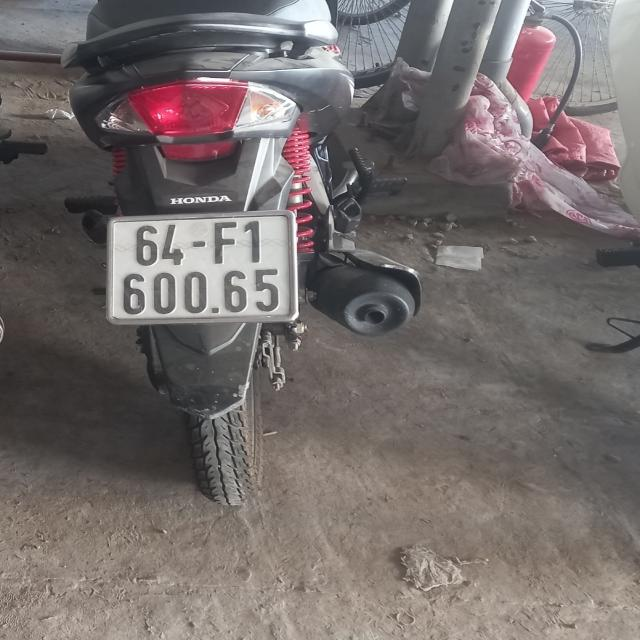0: (184, 272, 207, 314), (154, 272, 176, 314)
1: (243, 220, 260, 262)
4: (162, 224, 184, 266)
5: (255, 269, 281, 313)
6: (123, 272, 147, 316), (224, 271, 248, 313), (135, 225, 159, 266)
F: (214, 222, 236, 264)
